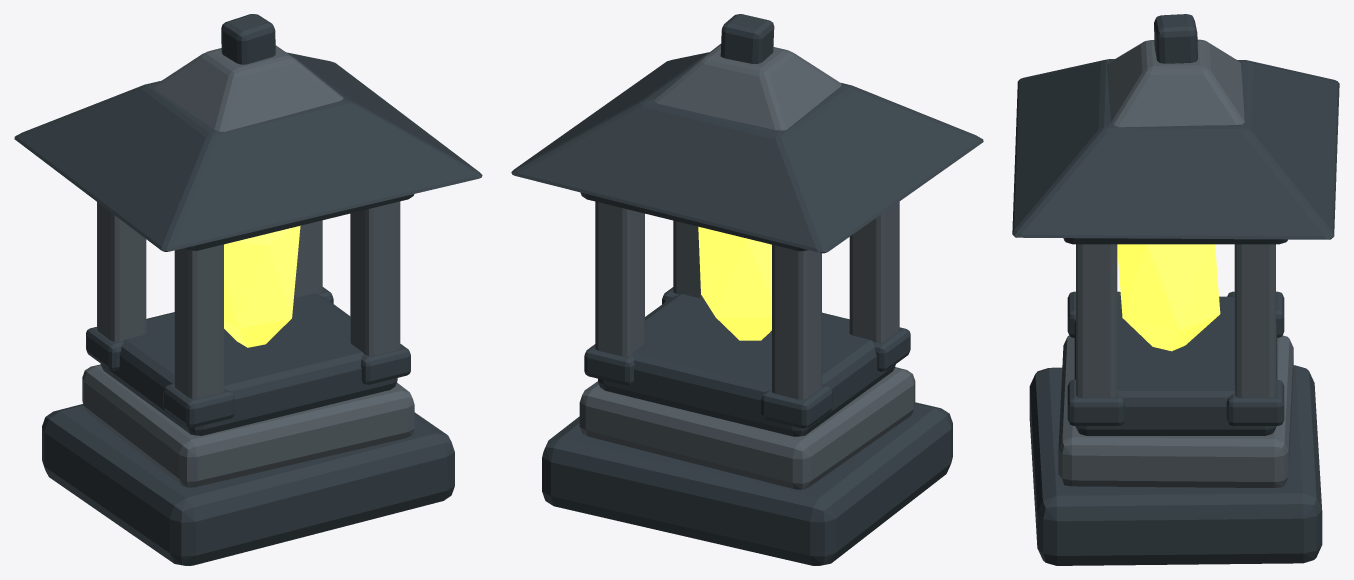
File: PROP_ShrineLantern_A.fbx
The picture shows the model from 3 angles, left to right: view 1: azimuth 30°, elevation 25°; view 2: azimuth 150°, elevation 25°; view 3: azimuth 270°, elevation 25°; orthographic projection. The views are drawn at different scales.
Parts seen in each view (by area): view 1: PROP_ShrineLantern_A.002; view 2: PROP_ShrineLantern_A.002; view 3: PROP_ShrineLantern_A.002.
Part boxes in pixels (<box>): PROP_ShrineLantern_A.002: <box>14,14,482,565</box>; PROP_ShrineLantern_A.002: <box>511,14,983,565</box>; PROP_ShrineLantern_A.002: <box>1012,14,1339,565</box>.
Bounding box in the file's own units: 0.5758 × 0.8 × 0.4945.
